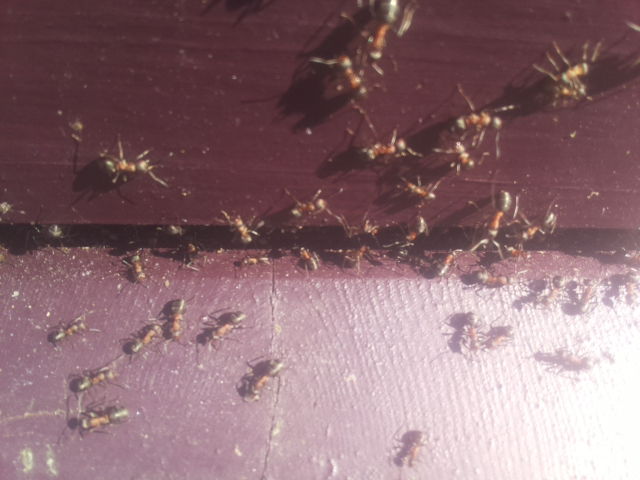ant: (538, 48, 599, 106), (358, 0, 413, 62), (319, 48, 377, 105), (239, 351, 294, 407), (89, 144, 156, 188), (441, 104, 506, 142), (200, 304, 250, 353), (509, 206, 565, 247), (67, 401, 136, 434), (389, 426, 433, 471), (354, 132, 420, 162), (482, 181, 516, 238), (121, 318, 168, 358), (530, 347, 595, 373), (66, 365, 124, 394), (218, 204, 253, 250), (48, 312, 90, 350), (393, 175, 439, 203), (282, 195, 332, 217), (471, 269, 513, 289), (434, 250, 460, 280), (452, 140, 475, 173), (404, 212, 429, 242), (463, 312, 481, 353), (295, 245, 321, 273), (169, 297, 187, 336), (130, 253, 145, 283)
